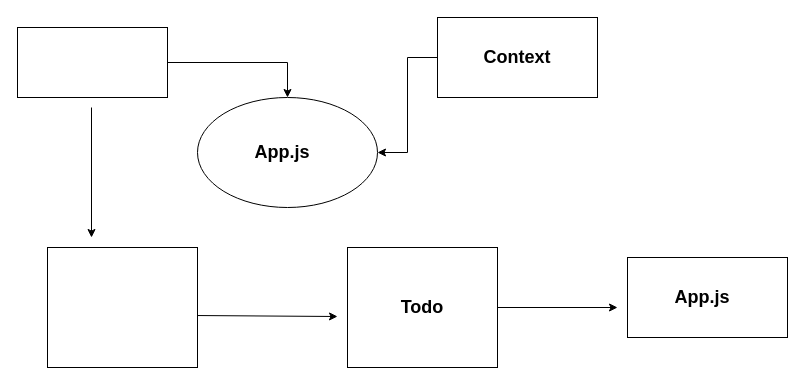
Some shapes in this 805 by 385 pixel diagram are drawn without their labels. Here are the shapes that lost their labels. From the top down, the box of each, then its label:
(16, 26, 168, 98): List
(46, 246, 198, 368): Form
